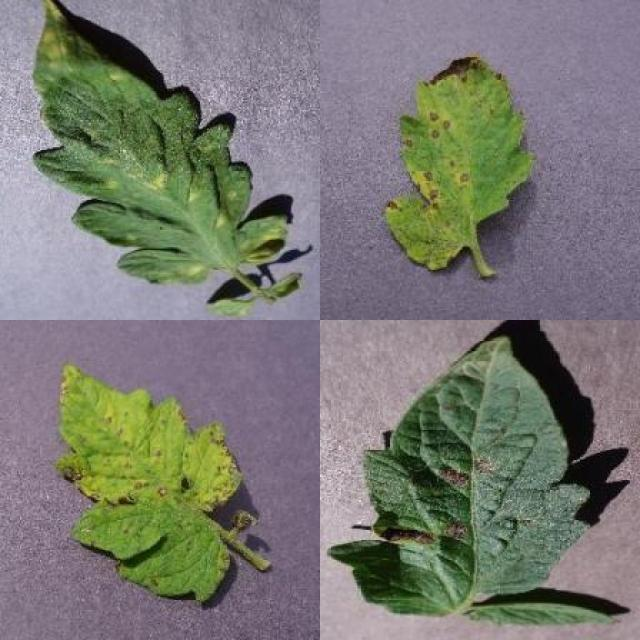Early Blight: (330, 336, 593, 618)
Leaf Mold: (30, 0, 287, 284)
Septoria: (55, 363, 241, 600), (387, 52, 530, 268)
